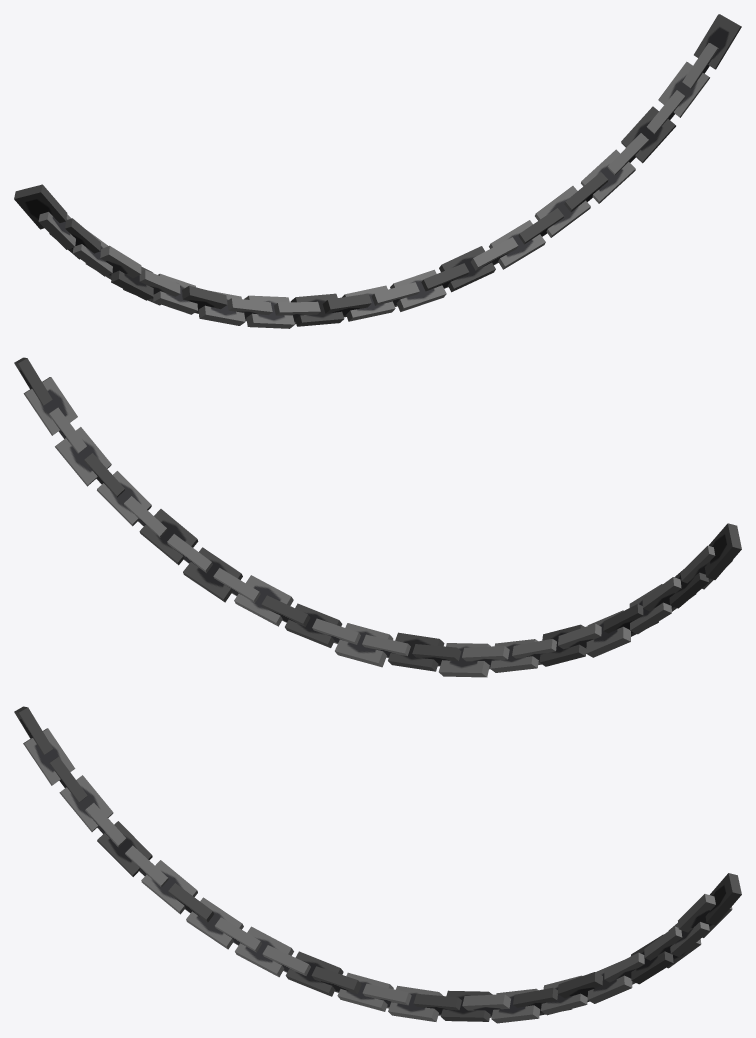
File: SM_Prop_Chain_04.glb
3 renders of one model, top to bottom at view 1: azimuth 30°, elevation 25°; view 2: azimuth 150°, elevation 25°; view 3: azimuth 330°, elevation 25°, orthographic.
Parts seen in each view (by area): view 1: SM_Prop_Chain_04; view 2: SM_Prop_Chain_04; view 3: SM_Prop_Chain_04.
Boxes of the visible parts, left/top/right/bottom form: SM_Prop_Chain_04: left=14, top=14, right=741, bottom=328; SM_Prop_Chain_04: left=14, top=357, right=741, bottom=677; SM_Prop_Chain_04: left=14, top=706, right=741, bottom=1023.
Bounding box in the file's own units: 0.0225 × 0.00648 × 0.000876.
1 material, 1 textured.
